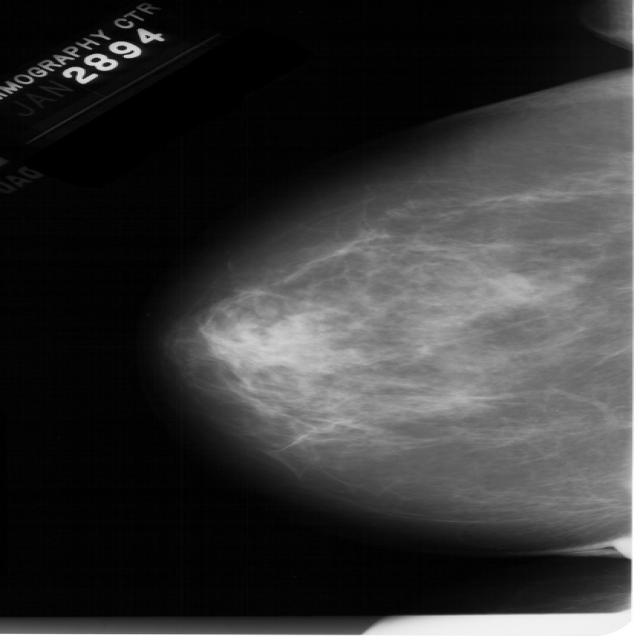tumour: (495, 271, 531, 294)
